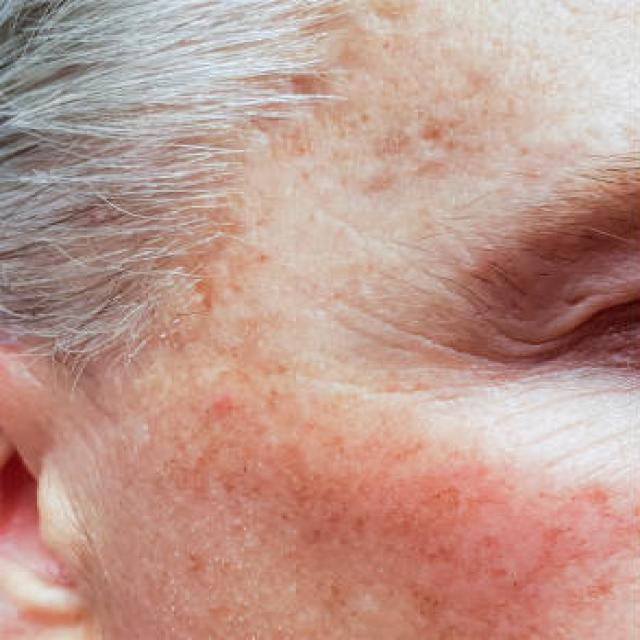pigmentation: (358, 101, 514, 180)
